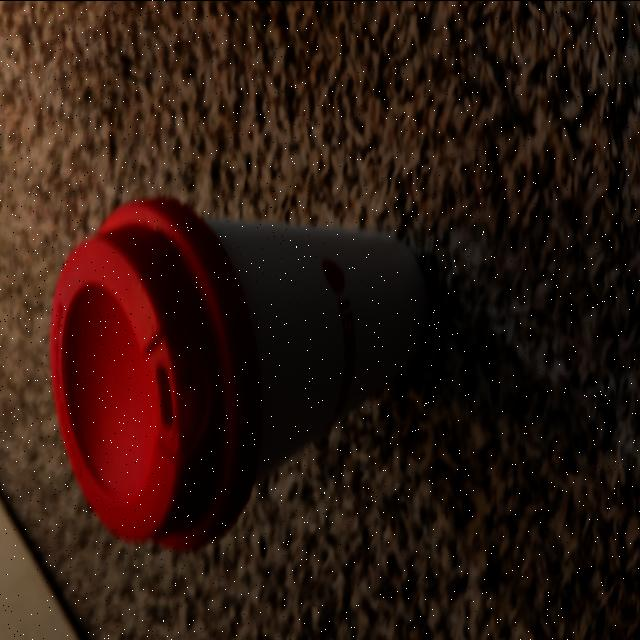mug: (50, 203, 428, 549)
